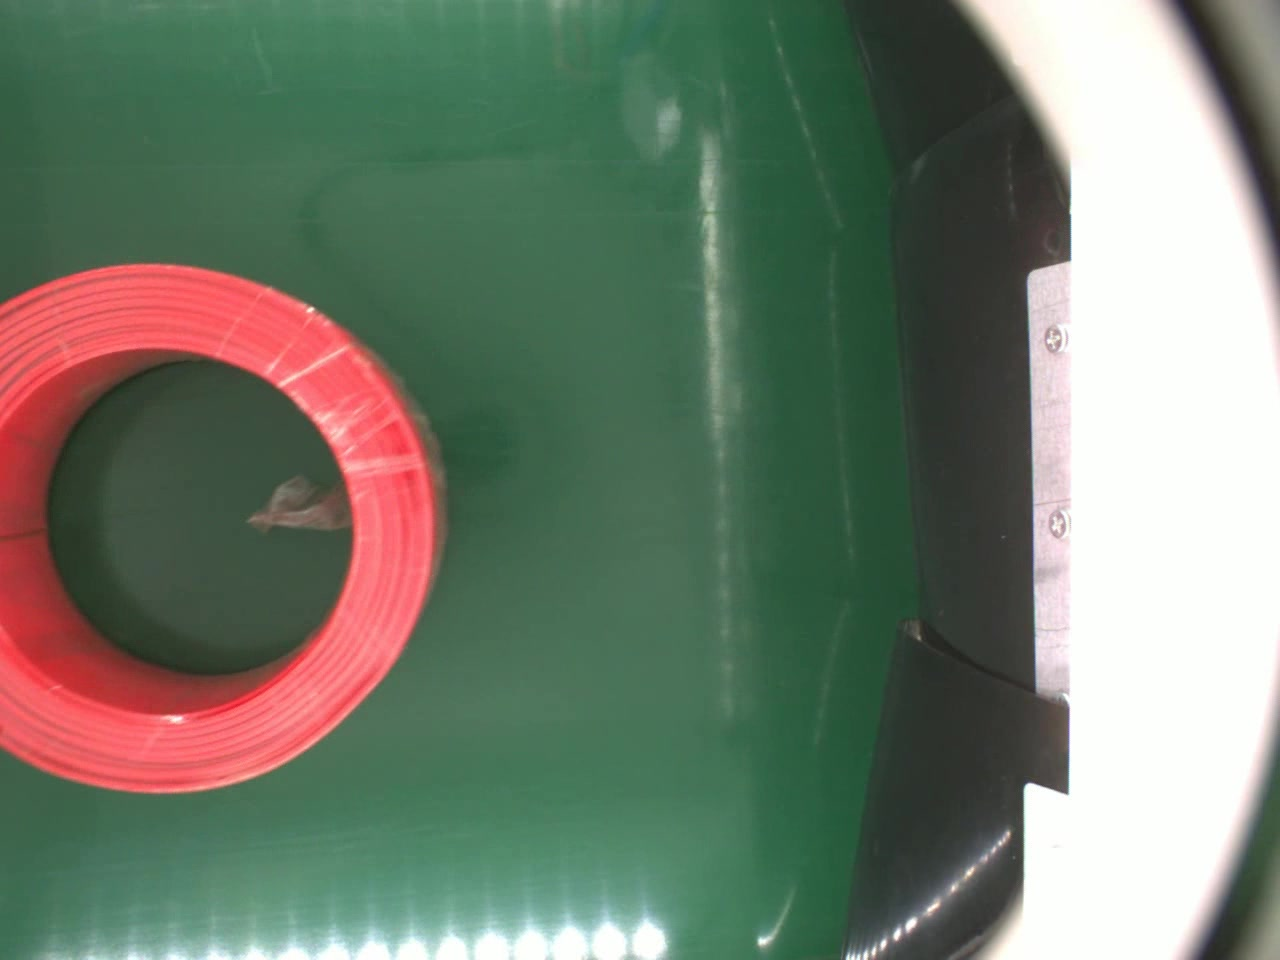red: (0, 262, 455, 799)
